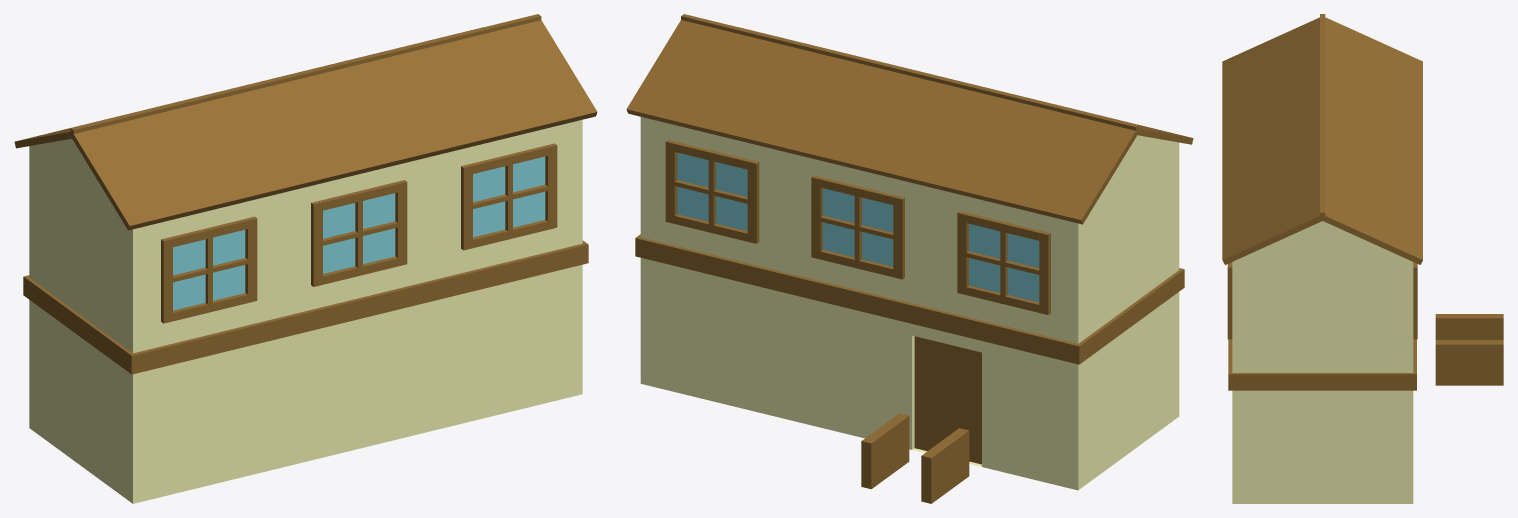
File: House.fbx
3 renders of one model, left to right at view 1: azimuth 30°, elevation 25°; view 2: azimuth 150°, elevation 25°; view 3: azimuth 270°, elevation 25°, orthographic. The views are drawn at different scales.
Parts seen in each view (by area): view 1: Cube; view 2: Cube; view 3: Cube.
Part boxes in pixels (x1=…): Cube: x1=14, y1=14, x2=597, y2=503; Cube: x1=626, y1=14, x2=1193, y2=503; Cube: x1=1222, y1=14, x2=1503, y2=503.
Bounding box in the file's own units: 1040 × 720 × 622.
